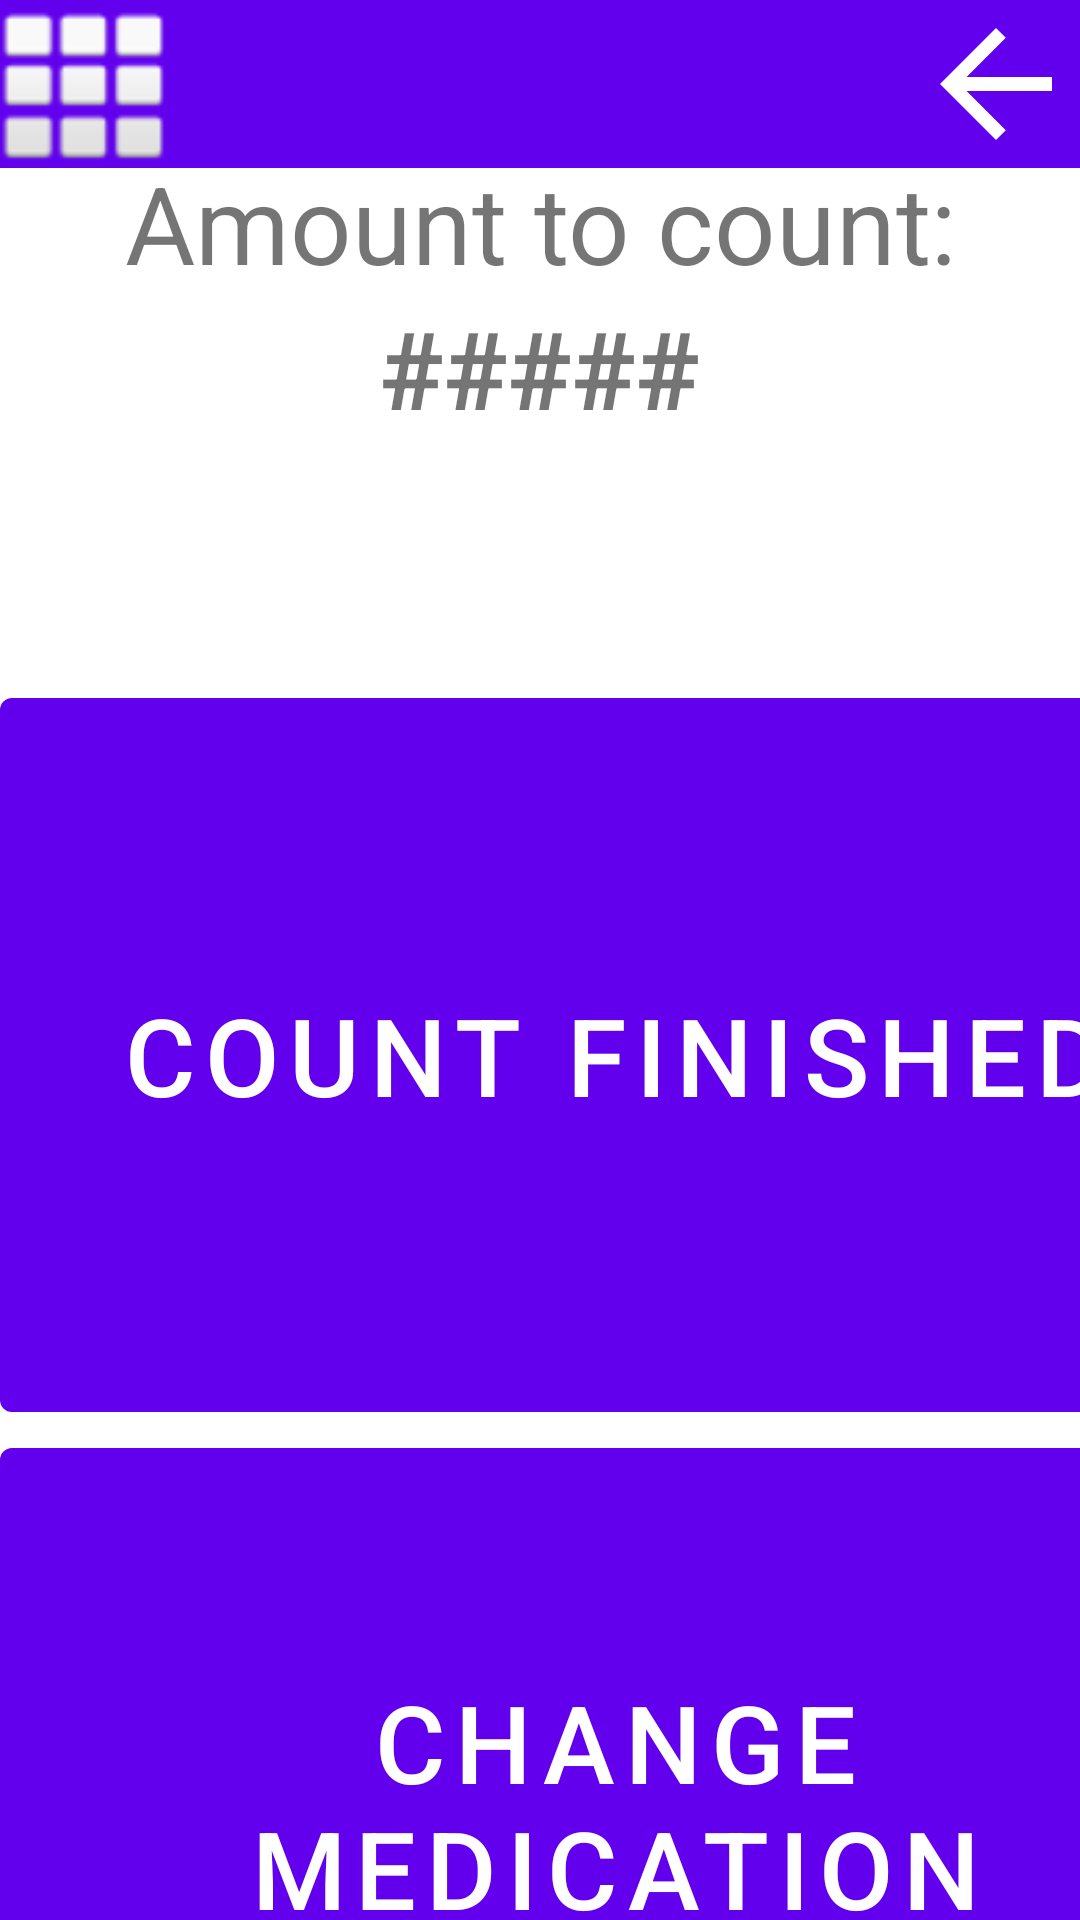

Where to tap for icons on this 1080 × 1920 app screen, as point (x, y):
dialer: point (83, 86)
